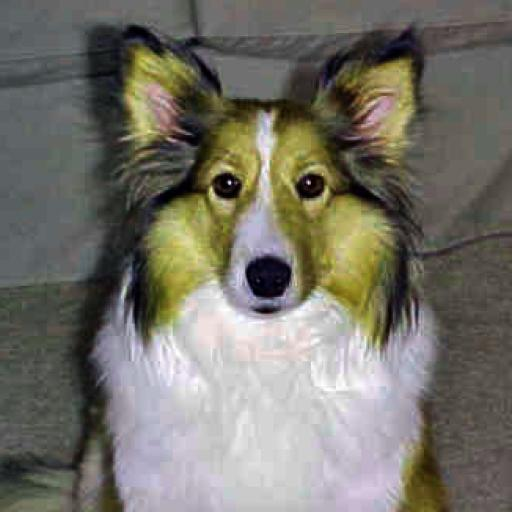dog_face: (114, 18, 423, 328)
